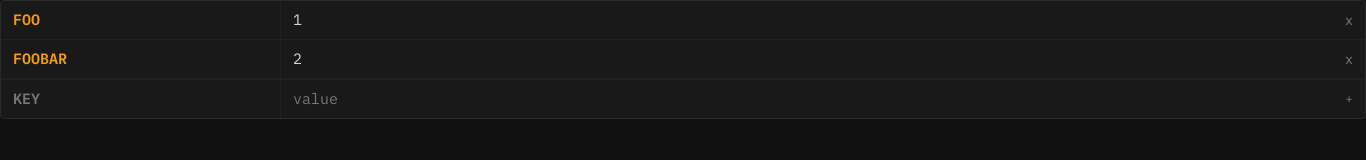
Test: KeyValueField › rename-through-collision (FE-FORM-02 — no row destroyed mid-edit) › renaming a key through a sibling-collision keeps both rows alive
Type "BAR2" into the field named "Key for FOO". click: (140, 20)
box: [13,8,268,32]
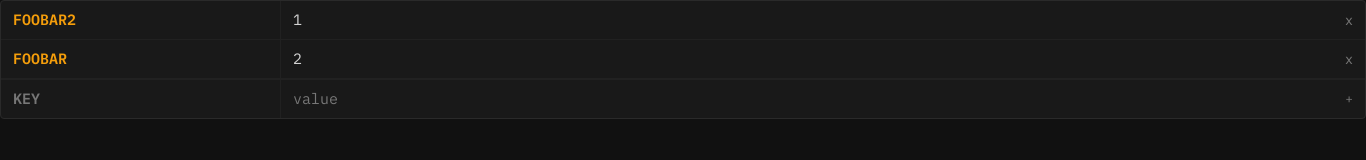
Expected: the field named "Value for FOOBAR2" holds "1", [293,8,1321,32]
Expected: the field named "Key for FOOBAR2" holds "FOOBAR2", [13,8,268,32]
